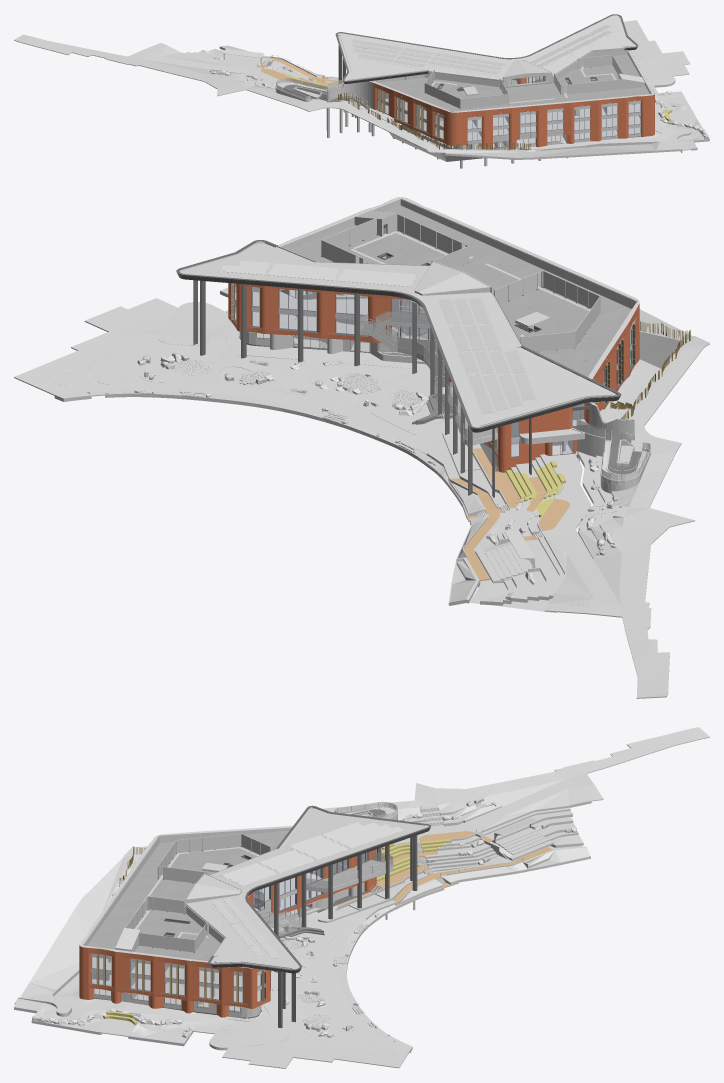
3 renders of one model, top to bottom at view 1: azimuth 30°, elevation 25°; view 2: azimuth 150°, elevation 25°; view 3: azimuth 270°, elevation 25°, orthographic. The views are drawn at different scales.
Parts seen in each view (by area): view 1: IfcSlab/Floor:DIS_LA_PAVING 1:725673; view 2: IfcSlab/Floor:DIS_LA_PAVING 1:725673; view 3: IfcSlab/Floor:DIS_LA_PAVING 1:725673.
Boxes of the visible parts, x1,y1,x2,y2 form: IfcSlab/Floor:DIS_LA_PAVING 1:725673: (14, 14, 709, 168); IfcSlab/Floor:DIS_LA_PAVING 1:725673: (14, 197, 709, 698); IfcSlab/Floor:DIS_LA_PAVING 1:725673: (14, 727, 709, 1068).
Bounding box in the file's own units: 0.3538 × 0.0425 × 0.3268.
